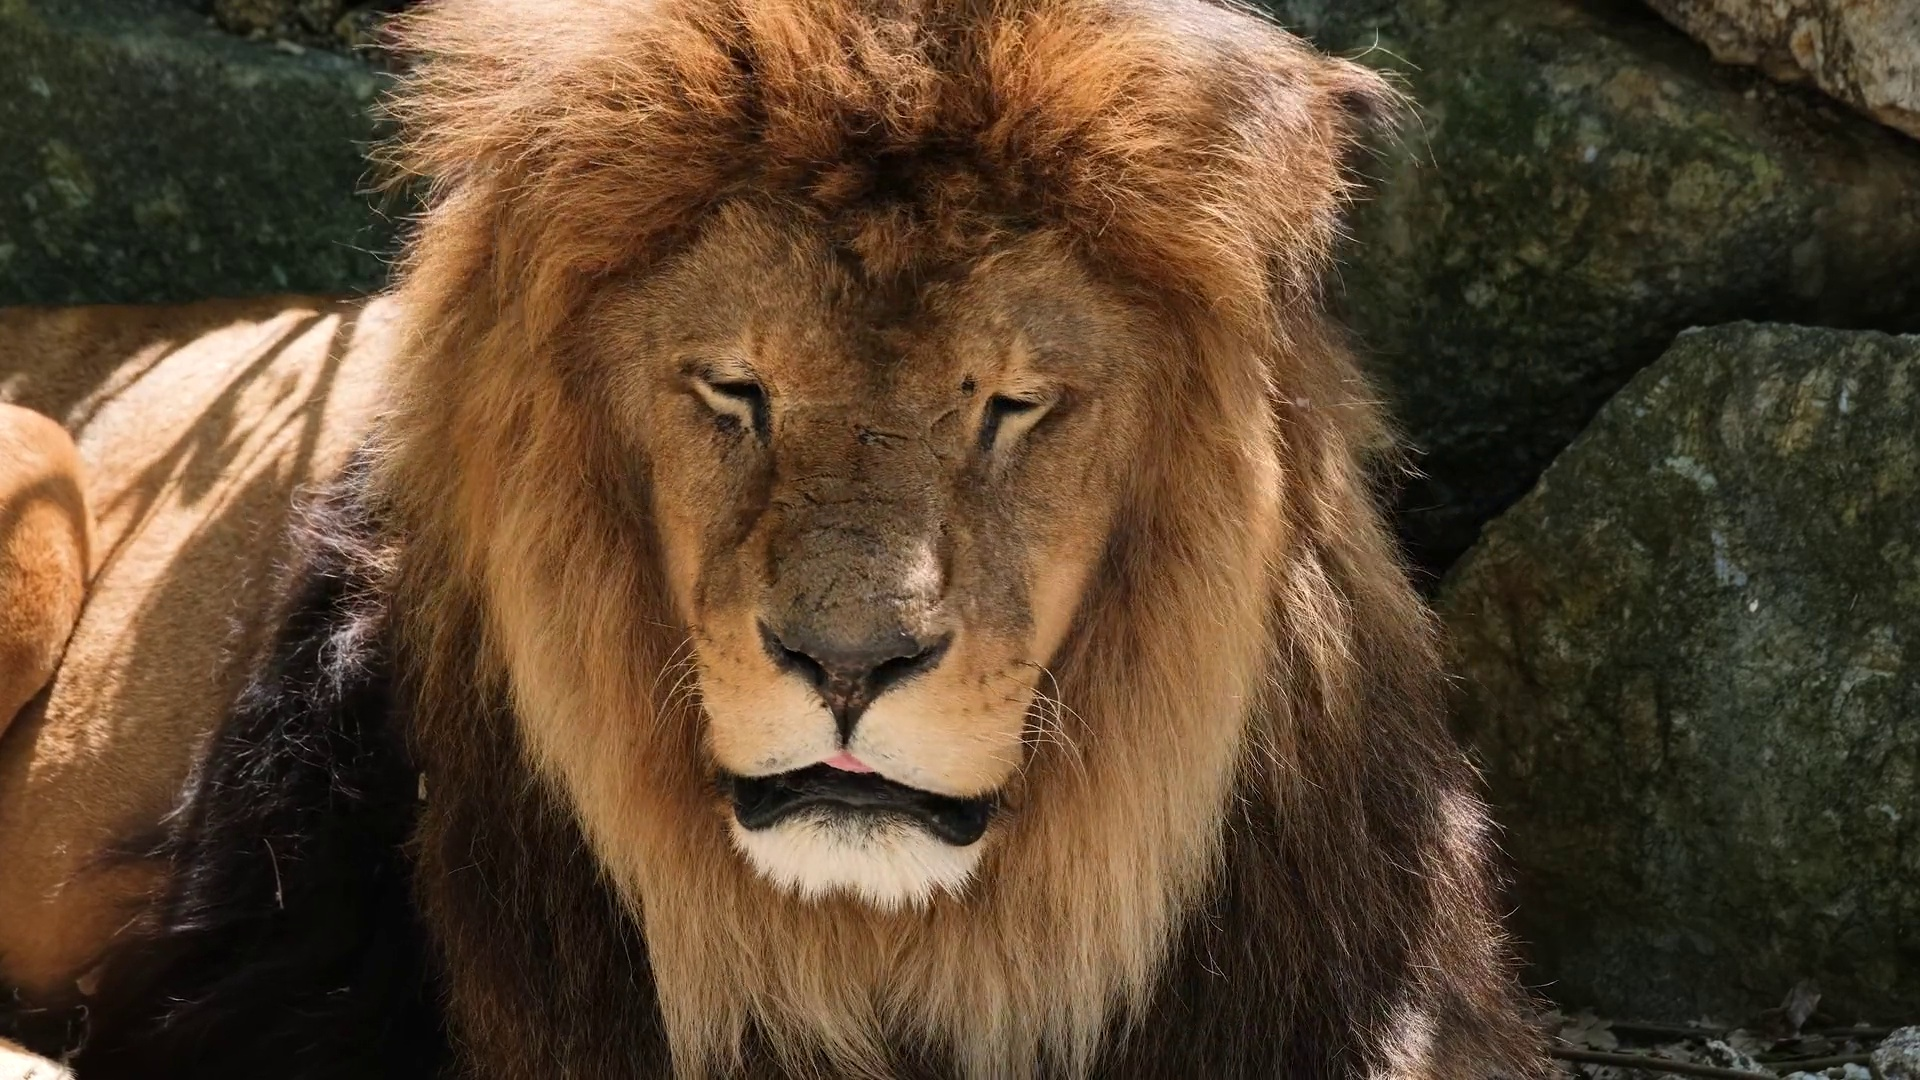Lion: (4, 4, 1560, 1080)
